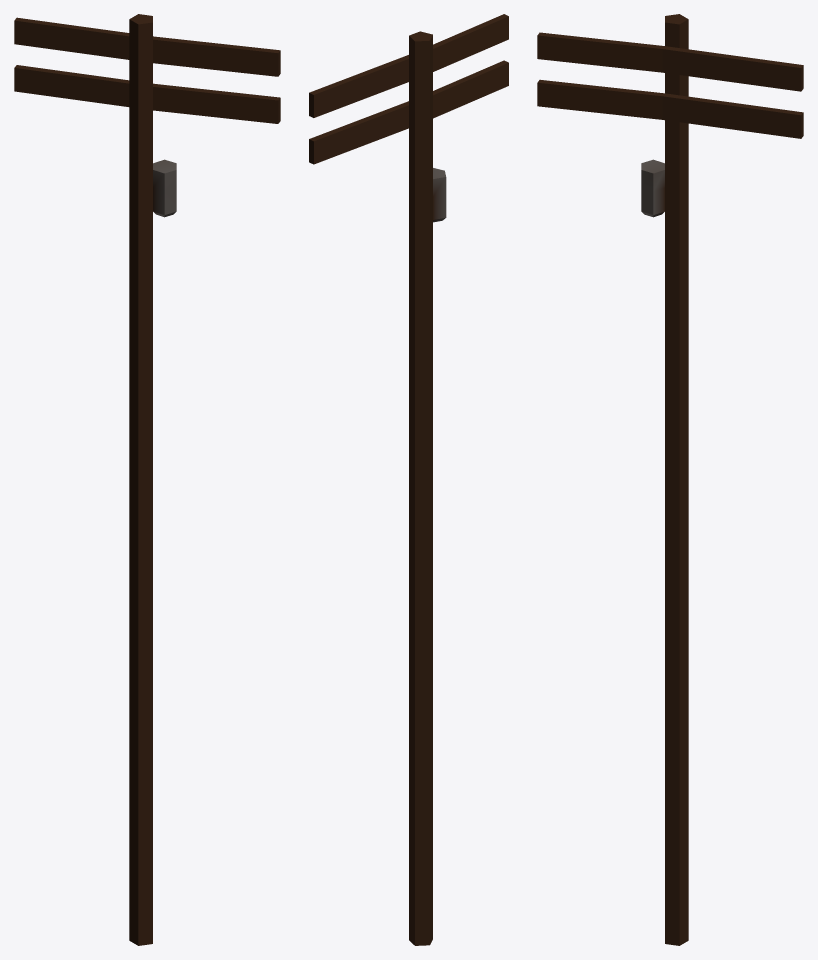
The model's file is pylon.fbx.
The picture shows the model from 3 angles, left to right: view 1: azimuth 90°, elevation 25°; view 2: azimuth 150°, elevation 25°; view 3: azimuth 270°, elevation 25°; orthographic projection.
Parts seen in each view (by area): view 1: Cylinder; view 2: Cylinder; view 3: Cylinder.
Boxes of the visible parts, box(x1,y1,x2,y2) form: Cylinder: box(14, 14, 280, 945); Cylinder: box(309, 14, 508, 945); Cylinder: box(537, 14, 803, 945).
Size of the model in its own units: 323 by 3900 by 1021.
